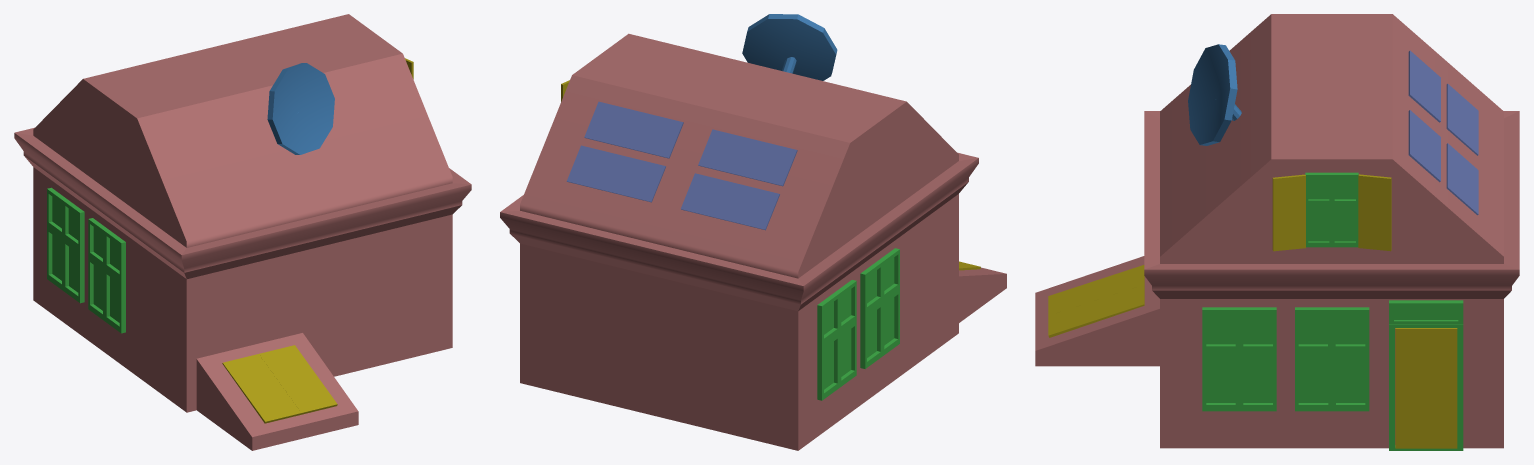
Rendered from House 02.fbx.
The picture shows the model from 3 angles, left to right: view 1: azimuth 30°, elevation 25°; view 2: azimuth 150°, elevation 25°; view 3: azimuth 270°, elevation 25°; orthographic projection. The views are drawn at different scales.
Visible parts, largest first — view 1: pCube64, pCube83, pCylinder2, pCube75, pCube76, pCube84, pCube85; view 2: pCube64, pCylinder2, pCube75, pCube76, pCube89, pCube90, pCube88, pCube87, pCube83; view 3: pCube64, pCube73, pCube72, pCube74, pCube83, pCube66, pCylinder2, pCube71, pCube70, pCube85, pCube65, pCube84 (+5 smaller).
Part boxes in pixels (x1,y1,x2,y2): pCube64: [14, 14, 471, 412]; pCube83: [196, 333, 358, 450]; pCylinder2: [267, 63, 334, 154]; pCube75: [47, 187, 84, 303]; pCube76: [88, 218, 125, 333]; pCube84: [222, 354, 301, 423]; pCube85: [259, 345, 337, 414]; pCube64: [500, 33, 978, 450]; pCylinder2: [742, 14, 837, 80]; pCube75: [817, 280, 856, 400]; pCube76: [860, 248, 899, 368]; pCube89: [584, 101, 683, 158]; pCube90: [698, 129, 797, 186]; pCube88: [566, 145, 665, 202]; pCube87: [681, 173, 779, 230]; pCube83: [959, 267, 1006, 322]; pCube64: [1144, 14, 1519, 448]; pCube73: [1202, 307, 1276, 411]; pCube72: [1295, 307, 1369, 411]; pCube74: [1395, 328, 1457, 448]; pCube83: [1035, 256, 1159, 366]; pCube66: [1305, 172, 1358, 247]; pCylinder2: [1188, 44, 1237, 145]; pCube71: [1358, 174, 1391, 251]; pCube70: [1272, 174, 1305, 251]; pCube85: [1048, 284, 1144, 337]; pCube65: [1389, 324, 1463, 450]; pCube84: [1048, 265, 1144, 315].
Size of the model in its own units: 646 by 623 by 833.
